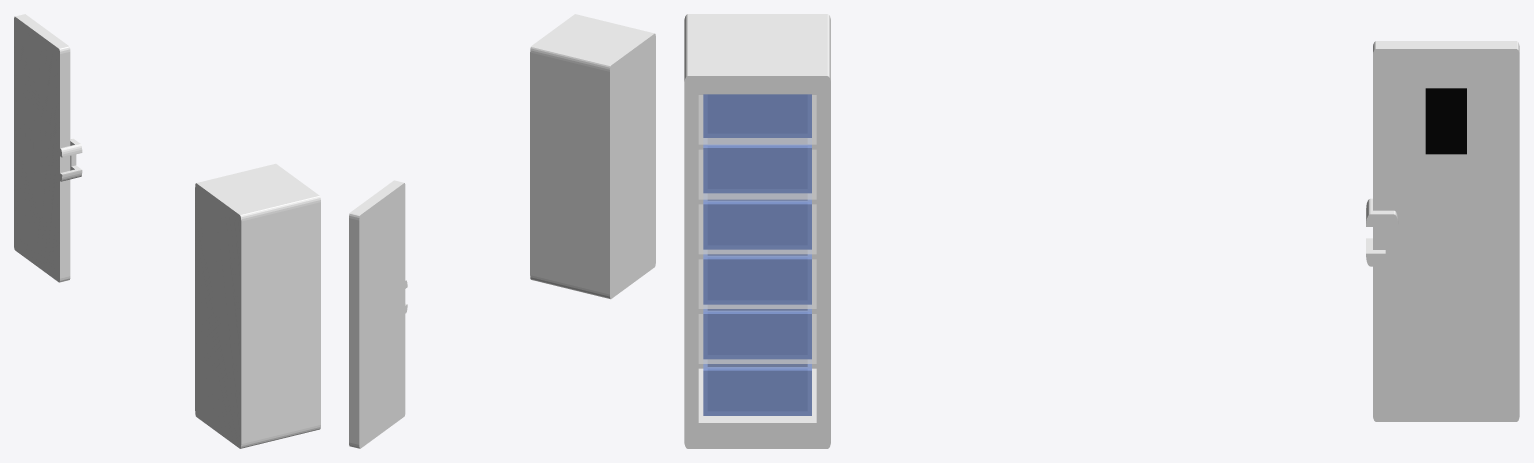
The model's file is fridge1.fbx.
The picture shows the model from 3 angles, left to right: view 1: azimuth 30°, elevation 25°; view 2: azimuth 150°, elevation 25°; view 3: azimuth 270°, elevation 25°; orthographic projection. The views are drawn at different scales.
Visible parts, largest first — view 1: Cube, Cube.001; view 2: Cube, Cube.001; view 3: Cube.001, Cube, Cube.002, Cube.005, Cube.006, Cube.003, Cube.004, Cube.007.
Boxes of the visible parts, <box> form: Cube: <box>195,163,320,448</box>; Cube.001: <box>14,14,82,282</box>; Cube: <box>530,14,655,299</box>; Cube.001: <box>349,180,407,448</box>; Cube.001: <box>1366,41,1519,421</box>; Cube: <box>684,14,830,448</box>; Cube.002: <box>703,359,811,415</box>; Cube.005: <box>703,193,811,249</box>; Cube.006: <box>703,138,811,193</box>; Cube.003: <box>703,305,811,359</box>; Cube.004: <box>703,250,811,304</box>; Cube.007: <box>703,94,811,137</box>.
Bounding box in the file's own units: 1000 × 2800 × 5686.
